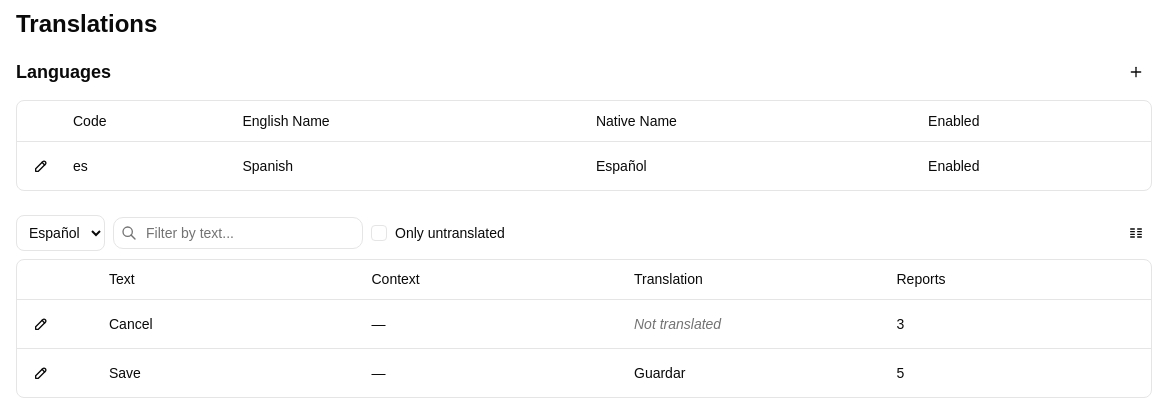
Scenario: TranslationsAdminPage › filters tokens by search text
Expected: the text "Cancel" is shown, top-left (101, 300), bottom-right (364, 348)
Type "save" into the field with placeholder "Filter by text..." at (238, 232), box top-left (113, 216), bottom-right (363, 248)
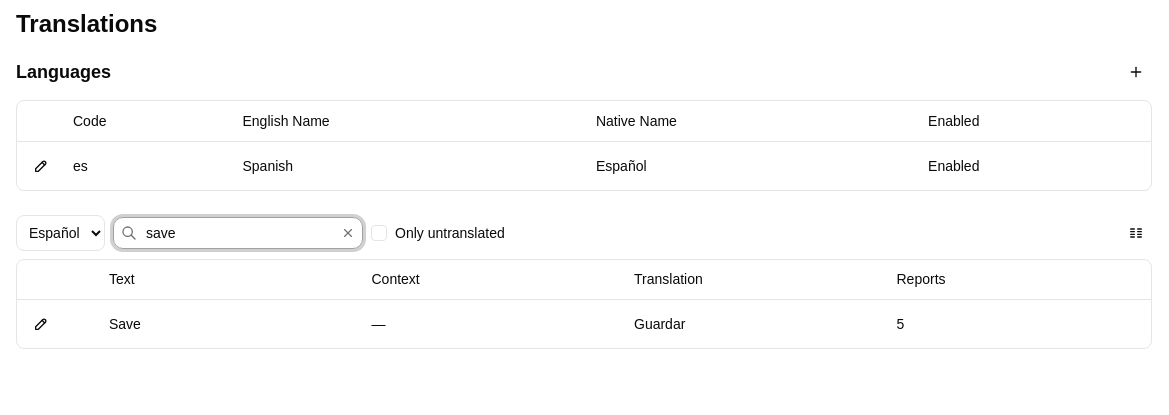
Expected: the text "Save" is shown, top-left (101, 300), bottom-right (364, 348)
Result: the text "Cancel" is gone
